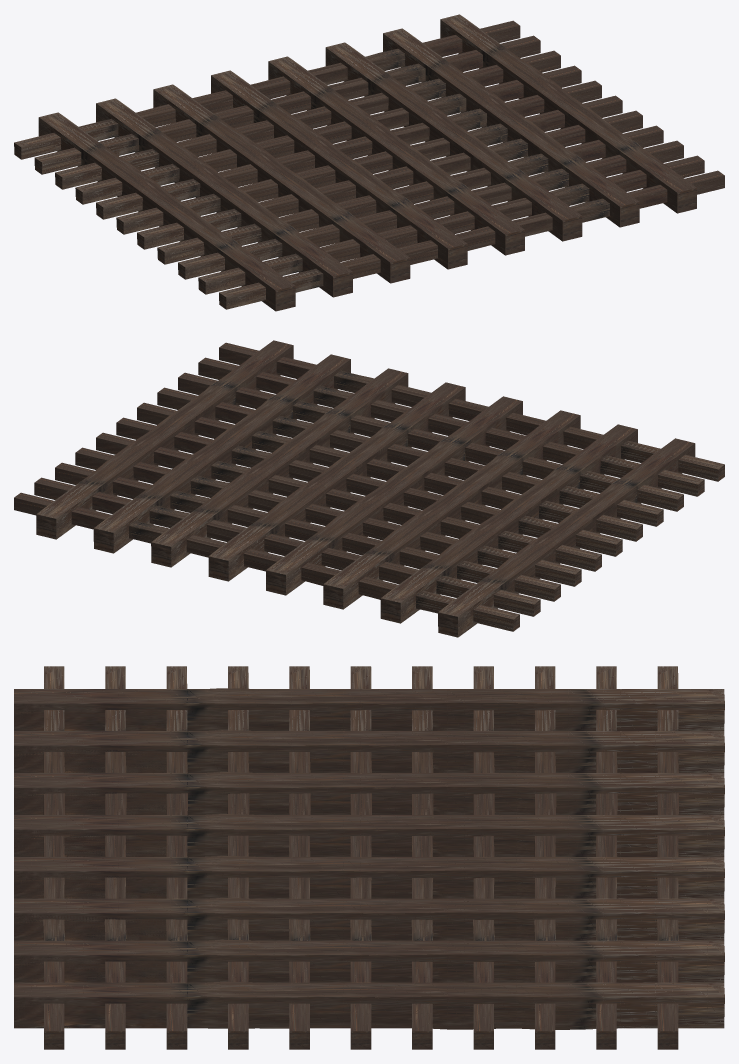
File: 天井木柱(小部屋).fbx
3 views of the same model, one above another, from view 1: azimuth 30°, elevation 25°; view 2: azimuth 150°, elevation 25°; view 3: azimuth 270°, elevation 25° (orthographic). The views are drawn at different scales.
Visible parts, largest first — view 1: Cube.010; view 2: Cube.010; view 3: Cube.010.
Part boxes in pixels (bbox=[...]): Cube.010: bbox=[14, 14, 724, 311]; Cube.010: bbox=[14, 340, 724, 637]; Cube.010: bbox=[14, 666, 724, 1049].
Bounding box in the file's own units: 29.85 × 1.27 × 24.57.
